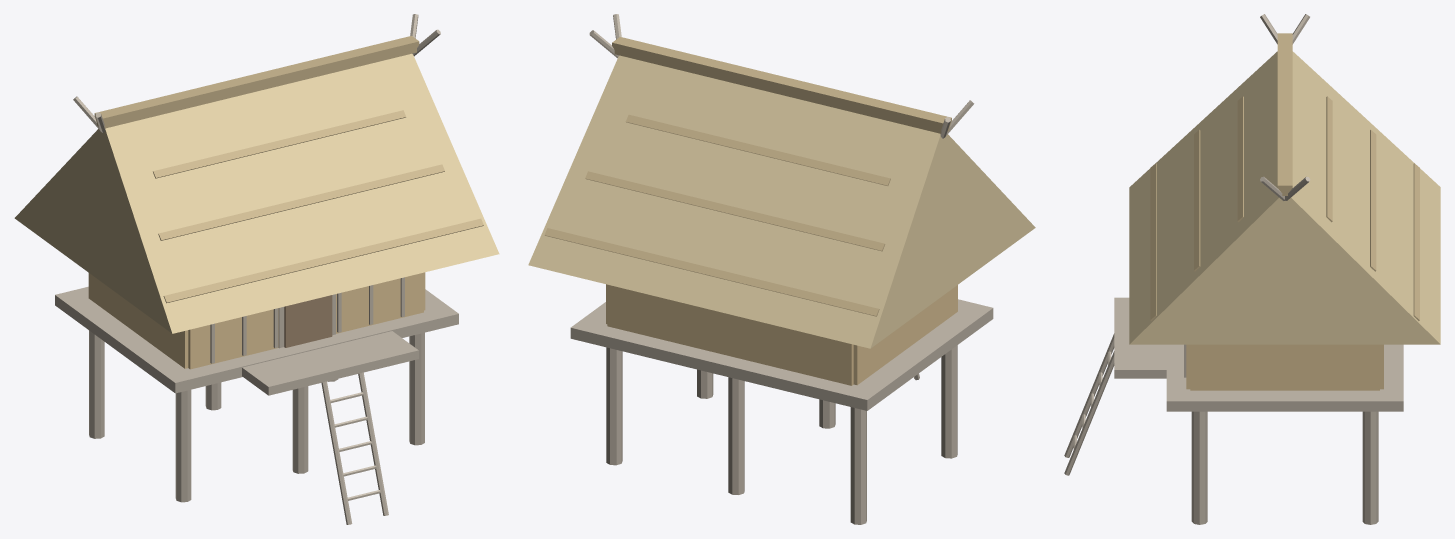
Rendered from gourd-prop-house.glb.
3 views of the same model, side by side, from view 1: azimuth 30°, elevation 25°; view 2: azimuth 150°, elevation 25°; view 3: azimuth 270°, elevation 25° (orthographic). The views are drawn at different scales.
Parts seen in each view (by area): view 1: thatch, floor, wall-front, ridge, veranda, wall-l, course-10, course-11, course-12, door, post00, post20 (+4 smaller); view 2: thatch, floor, wall-back, ridge, wall-l, course10, course11, course12, post01, post11, post21, post00; view 3: thatch, wall-r, floor, veranda, ridge, post20, post21, course-10, course10, course-11, course11, course-12 (+3 smaller).
Boxes of the visible parts, x1=… form: thatch: x1=14, y1=53, x2=499, y2=333; floor: x1=55, y1=286, x2=458, y2=393; wall-front: x1=188, y1=272, x2=423, y2=369; ridge: x1=94, y1=36, x2=419, y2=128; veranda: x1=242, y1=331, x2=418, y2=395; wall-l: x1=88, y1=273, x2=188, y2=368; course-10: x1=163, y1=218, x2=483, y2=303; course-11: x1=158, y1=164, x2=444, y2=240; course-12: x1=153, y1=110, x2=405, y2=178; door: x1=284, y1=295, x2=332, y2=347; post00: x1=175, y1=389, x2=191, y2=502; post20: x1=409, y1=332, x2=424, y2=445; thatch: x1=528, y1=55, x2=1035, y2=348; floor: x1=570, y1=299, x2=993, y2=410; wall-back: x1=607, y1=284, x2=853, y2=385; ridge: x1=612, y1=37, x2=951, y2=133; wall-l: x1=853, y1=285, x2=957, y2=385; course10: x1=544, y1=228, x2=879, y2=316; course11: x1=585, y1=171, x2=885, y2=251; course12: x1=626, y1=114, x2=890, y2=185; post01: x1=850, y1=407, x2=866, y2=524; post11: x1=728, y1=377, x2=744, y2=494; post21: x1=606, y1=347, x2=622, y2=465; post00: x1=941, y1=345, x2=957, y2=458; thatch: x1=1129, y1=51, x2=1440, y2=344; wall-r: x1=1190, y1=344, x2=1379, y2=390; floor: x1=1166, y1=344, x2=1403, y2=411; veranda: x1=1114, y1=297, x2=1166, y2=378; ridge: x1=1277, y1=33, x2=1292, y2=195; post20: x1=1191, y1=411, x2=1207, y2=524; post21: x1=1362, y1=411, x2=1378, y2=524; course-10: x1=1150, y1=163, x2=1156, y2=320; course10: x1=1413, y1=163, x2=1419, y2=320; course-11: x1=1194, y1=130, x2=1200, y2=271; course11: x1=1370, y1=130, x2=1376, y2=271; course-12: x1=1237, y1=96, x2=1243, y2=222.
Size of the model in its own units: 0.2069 by 0.2156 by 0.1984.
